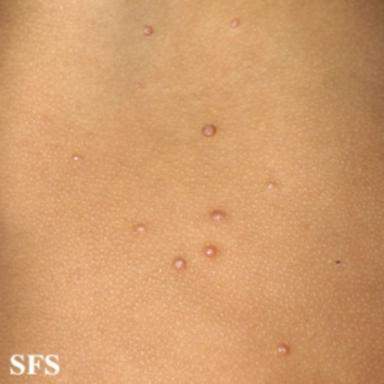Molluscum-Contagiosum: (277, 343, 290, 356), (202, 125, 216, 137), (212, 210, 225, 221), (204, 246, 217, 257), (143, 25, 154, 36), (174, 259, 185, 269), (230, 19, 239, 28), (136, 226, 145, 233), (134, 83, 142, 89), (268, 182, 274, 189), (73, 155, 79, 161)
